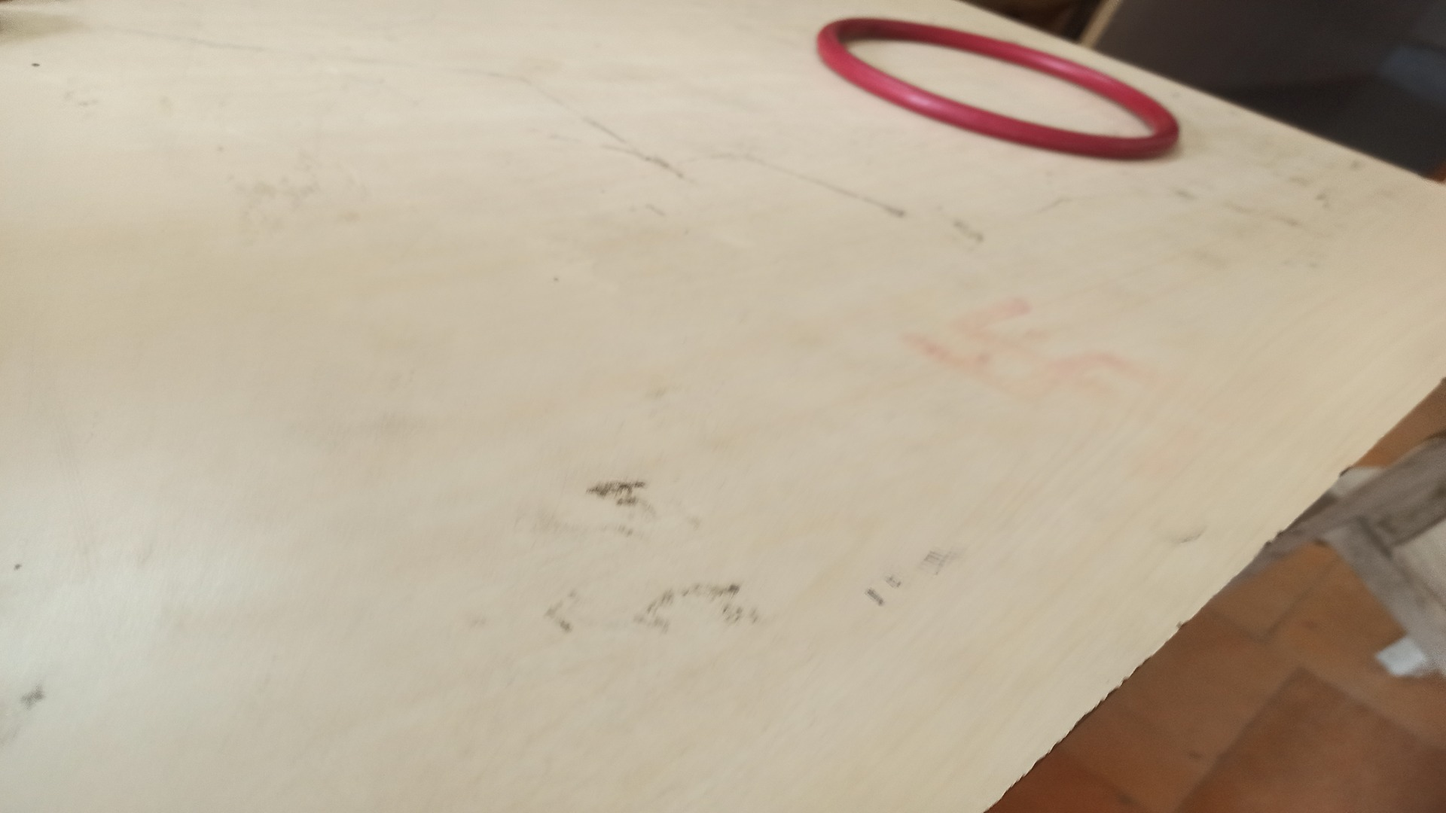Red ring: (813, 17, 1181, 163)
